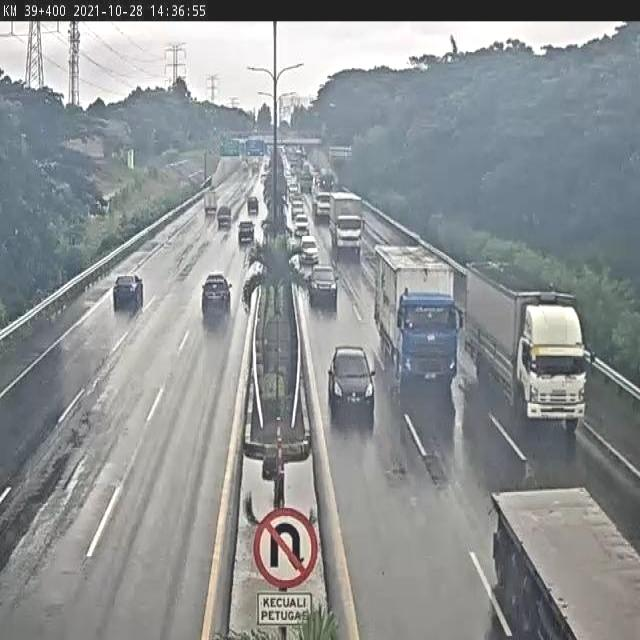Car: (327, 343, 377, 415), (201, 272, 234, 317), (307, 266, 339, 308), (111, 273, 145, 309), (299, 236, 320, 266), (238, 218, 256, 244), (293, 213, 311, 236), (290, 199, 305, 222), (246, 195, 260, 215)
Truck: (488, 486, 640, 640), (467, 253, 598, 428), (372, 244, 467, 388), (328, 191, 366, 259), (202, 188, 220, 216)
